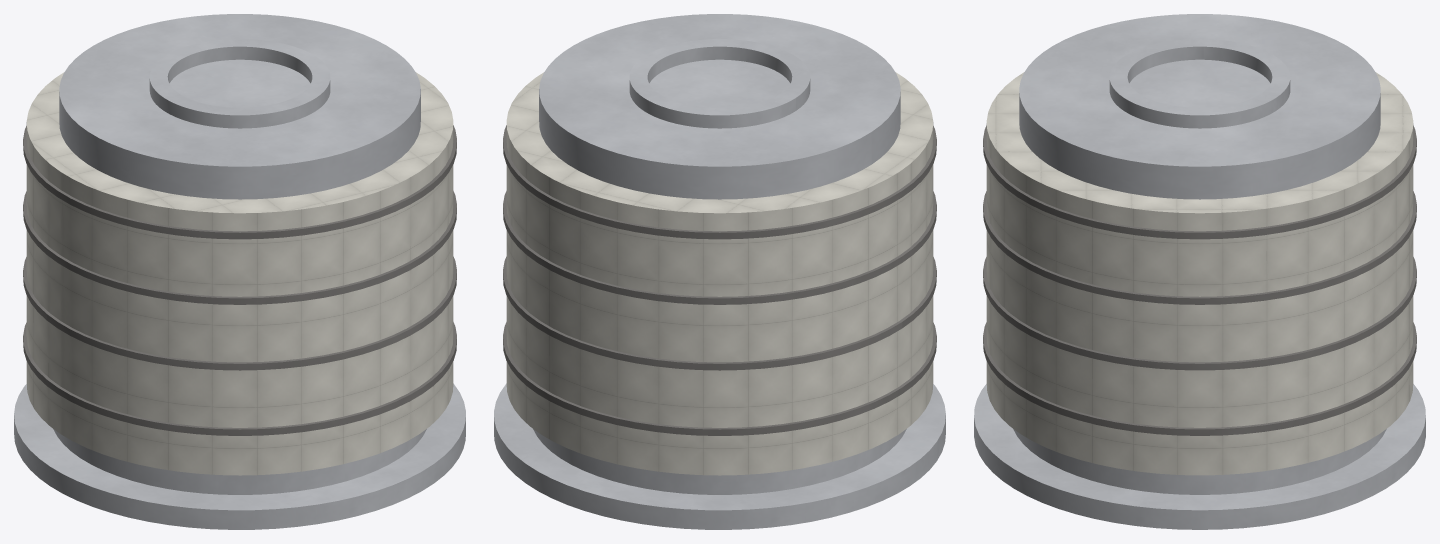
The model's file is station01_beam.glb.
The picture shows the model from 3 angles, left to right: view 1: azimuth 30°, elevation 25°; view 2: azimuth 150°, elevation 25°; view 3: azimuth 270°, elevation 25°; orthographic projection.
Visible parts, largest first — view 1: softgoods_packed, forward_bulkhead, aft_bulkhead, restraint_straps; view 2: softgoods_packed, forward_bulkhead, aft_bulkhead, restraint_straps; view 3: softgoods_packed, forward_bulkhead, aft_bulkhead, restraint_straps.
Part boxes in pixels (x1=…): softgoods_packed: x1=26, y1=72, x2=453, y2=475; forward_bulkhead: x1=59, y1=14, x2=420, y2=199; aft_bulkhead: x1=14, y1=383, x2=465, y2=529; restraint_straps: x1=23, y1=125, x2=456, y2=435; softgoods_packed: x1=506, y1=72, x2=933, y2=475; forward_bulkhead: x1=539, y1=14, x2=900, y2=199; aft_bulkhead: x1=494, y1=383, x2=945, y2=529; restraint_straps: x1=503, y1=125, x2=936, y2=435; softgoods_packed: x1=986, y1=72, x2=1413, y2=475; forward_bulkhead: x1=1019, y1=14, x2=1380, y2=199; aft_bulkhead: x1=974, y1=384, x2=1425, y2=529; restraint_straps: x1=983, y1=125, x2=1416, y2=435.
Size of the model in its own units: 2.5 by 2.18 by 2.5.
3 materials, 3 textured.
